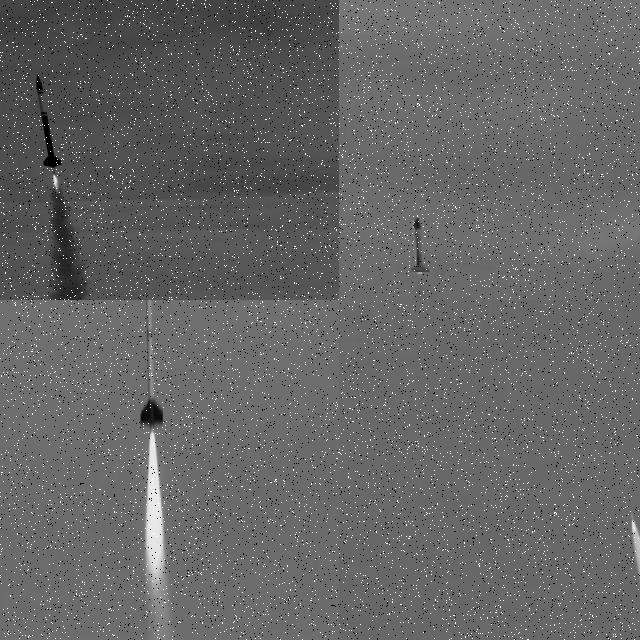Rocket: (139, 300, 163, 436), (35, 74, 63, 168), (411, 216, 430, 274), (630, 511, 634, 523)
